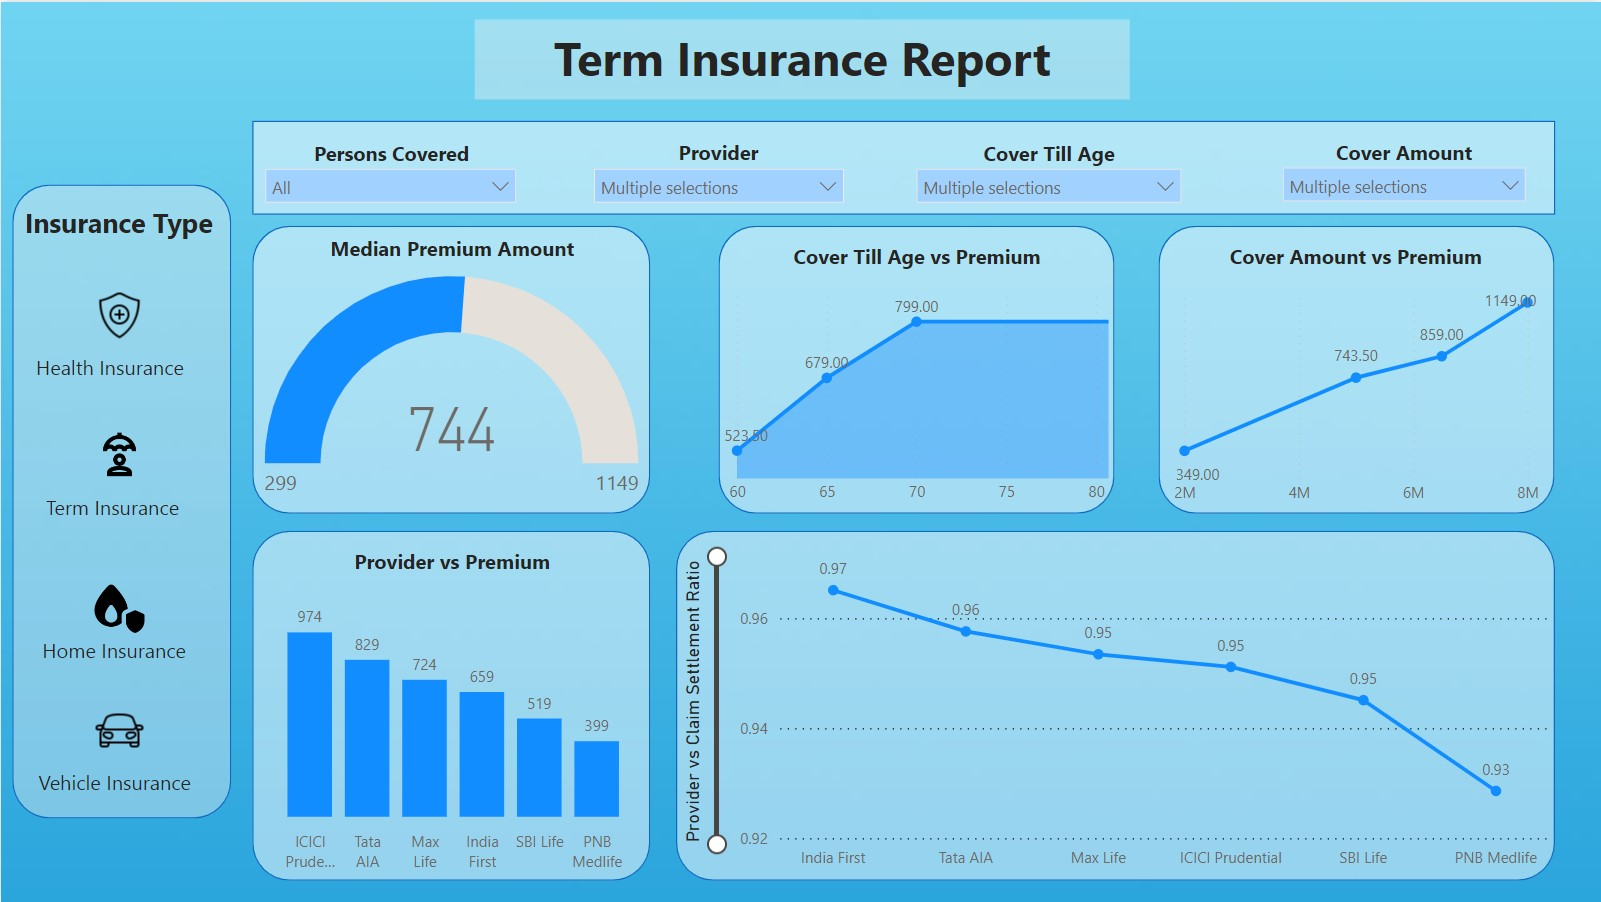

This screenshot's page, from the dashboard's own definition file:
{"tool":"powerbi","page":{"name":"Term Insurance","canvas":[1280,720],"ordinal":0},"visuals":[{"type":"shape","box":[201.4,178.6,317.1,230],"z":0},{"type":"image","box":[70,558.5,50,50],"z":0,"group":"g1"},{"type":"textbox","box":[378.7,14.5,524.6,63.9],"z":1000},{"type":"image","box":[70,460,50,50],"z":1000,"group":"g1"},{"type":"shape","box":[8.6,145.7,175.7,507.1],"z":2000},{"type":"image","box":[70,338.5,50,50],"z":2000,"group":"g1"},{"type":"image","box":[70,225.7,50,50],"z":3000,"group":"g1"},{"type":"group","id":"g1","title":"Group 1","box":[14.3,157.1,170,484.3],"z":3000},{"type":"textbox","box":[14.3,157.1,170,47.1],"z":4000,"group":"g1"},{"type":"shape","box":[201.4,422.9,317.1,280],"z":4000},{"type":"textbox","box":[22.9,275.7,144.3,38.6],"z":5000,"group":"g1"},{"type":"shape","box":[540,422.9,702.9,280],"z":5000},{"type":"shape","box":[201.4,95.3,1042,74.8],"z":6000},{"type":"textbox","box":[31.4,388.5,130,31.4],"z":6000,"group":"g1"},{"type":"textbox","box":[501.7,103.7,144.7,38.6],"z":7000},{"type":"textbox","box":[28.4,501.9,136.3,32.6],"z":7000,"group":"g1"},{"type":"shape","box":[925.7,178.6,317.1,230],"z":8000},{"type":"textbox","box":[25.7,608.5,142.9,32.9],"z":8000,"group":"g1"},{"type":"shape","box":[574.3,178.6,317.1,230],"z":9000},{"type":"slicer","fields":{"Values":["Sheet1.Person Covered"]},"box":[201.4,123,220.7,47],"z":10000},{"type":"slicer","fields":{"Values":["Sheet1.Provider"]},"box":[464.3,123,219.5,47],"z":11000},{"type":"textbox","box":[240,104.9,144.7,38.6],"z":12000},{"type":"slicer","fields":{"Values":["Sheet1.Cover till age"]},"box":[722.4,123,231.6,47],"z":13000},{"type":"textbox","box":[765.8,104.9,144.7,38.6],"z":14000},{"type":"slicer","fields":{"Values":["Sheet1.Life Cover"]},"box":[1015.5,121.8,214.7,47],"z":15000},{"type":"textbox","box":[1050.5,103.7,144.7,38.6],"z":16000},{"type":"textbox","box":[249.6,180.9,221.9,38.6],"z":17000},{"type":"lineChart","fields":{"Category":["Sheet1.Provider"],"Y":["Median(Sheet1.Incurred Claim Ratio)"]},"box":[540.3,430.6,703.1,272.6],"z":18000},{"type":"clusteredColumnChart","fields":{"Category":["Sheet1.Provider"],"Y":["Median(Sheet1.Premium)"]},"box":[201.4,469.1,317.2,234],"z":19000},{"type":"stackedAreaChart","fields":{"Category":["Sheet1.Cover till age"],"Y":["Median(Sheet1.Premium)"]},"box":[574.1,218.3,317.2,191.8],"z":20000},{"type":"textbox","box":[622.3,186.9,221.9,38.6],"z":21000},{"type":"lineChart","fields":{"Category":["Sheet1.Life Cover"],"Y":["Median(Sheet1.Premium)"]},"box":[932.3,219.5,303.9,191.8],"z":22000},{"type":"textbox","box":[973.3,186.9,221.9,38.6],"z":23000},{"type":"textbox","box":[249.6,430.6,221.9,38.6],"z":24000},{"type":"gauge","fields":{"Y":["Median(Sheet1.Premium)"],"MinValue":["Min(Sheet1.Premium)"],"MaxValue":["Max(Sheet1.Premium)1"]},"box":[206.2,203.8,308.7,212.3],"z":25000}]}

Visuals, with their boxes in screenshot pixels (x1, y1, x2, y2), scaled from the page's 1280x720 canvas onto the 1601x902 screenshot:
shape: [252,224,649,512]
image: [88,700,150,762]
textbox: [474,18,1130,98]
image: [88,576,150,639]
shape: [11,183,231,818]
image: [88,424,150,487]
image: [88,283,150,345]
"Group 1" group: [18,197,231,804]
textbox: [18,197,231,256]
shape: [252,530,649,881]
textbox: [29,345,209,394]
shape: [675,530,1555,881]
shape: [252,119,1555,213]
textbox: [39,487,202,526]
textbox: [628,130,809,178]
textbox: [36,629,206,670]
shape: [1158,224,1554,512]
textbox: [32,762,211,804]
shape: [718,224,1115,512]
slicer - Sheet1.Person Covered: [252,154,528,213]
slicer - Sheet1.Provider: [581,154,855,213]
textbox: [300,131,481,180]
slicer - Sheet1.Cover till age: [904,154,1193,213]
textbox: [958,131,1139,180]
slicer - Sheet1.Life Cover: [1270,153,1539,211]
textbox: [1314,130,1495,178]
textbox: [312,227,590,275]
lineChart - Sheet1.Provider x Median(Sheet1.Incurred Claim Ratio): [676,539,1555,881]
clusteredColumnChart - Sheet1.Provider x Median(Sheet1.Premium): [252,588,649,881]
stackedAreaChart - Sheet1.Cover till age x Median(Sheet1.Premium): [718,273,1115,514]
textbox: [778,234,1056,283]
lineChart - Sheet1.Life Cover x Median(Sheet1.Premium): [1166,275,1546,515]
textbox: [1217,234,1495,283]
textbox: [312,539,590,588]
gauge - Median(Sheet1.Premium) x Min(Sheet1.Premium): [258,255,644,521]
